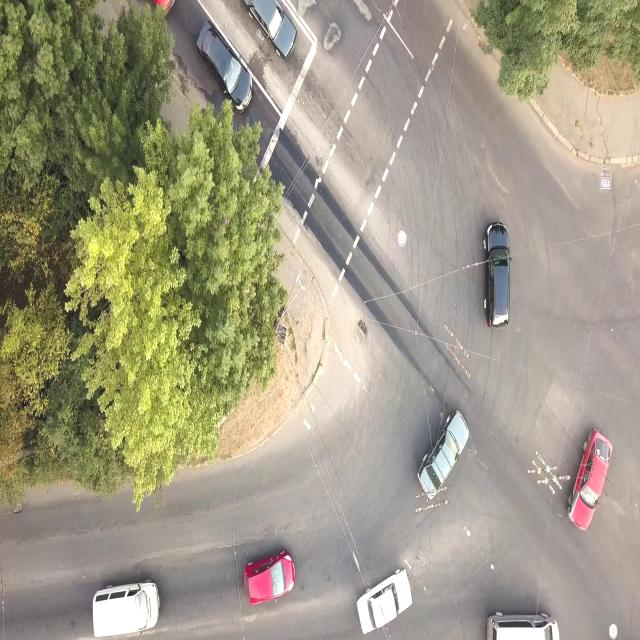Car: (186, 18, 256, 124), (408, 402, 478, 496), (569, 406, 612, 544), (88, 575, 160, 640), (358, 563, 414, 640), (238, 543, 302, 605), (482, 225, 516, 338), (483, 600, 563, 640)
